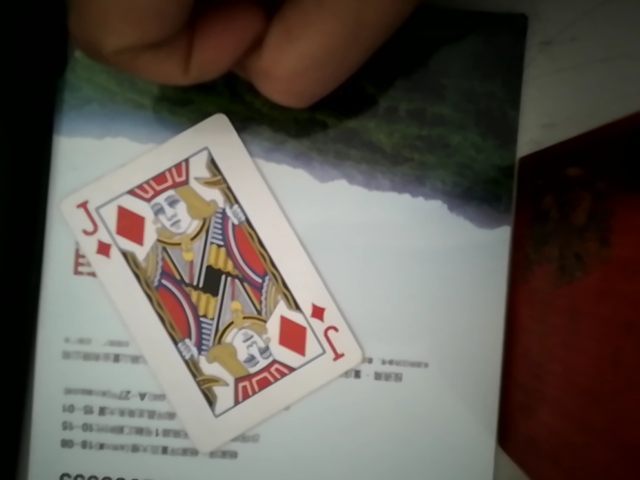fk j: (47, 109, 368, 450)
